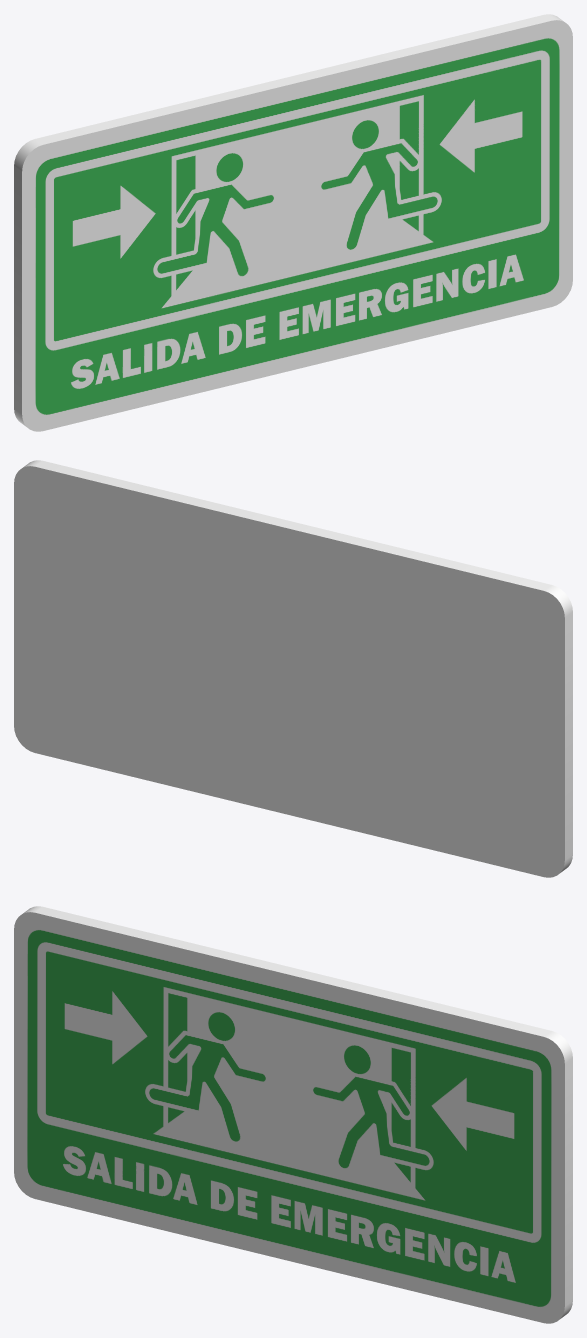
The model's file is SenyalSalida.fbx.
The picture shows the model from 3 angles, top to bottom: view 1: azimuth 30°, elevation 25°; view 2: azimuth 150°, elevation 25°; view 3: azimuth 330°, elevation 25°; orthographic projection.
Visible parts, largest first — view 1: salida de emergencia; view 2: salida de emergencia; view 3: salida de emergencia.
Part boxes in pixels (x1,y1,x2,y2): salida de emergencia: (14, 14, 572, 431); salida de emergencia: (14, 460, 572, 877); salida de emergencia: (14, 906, 572, 1323).
Bounding box in the file's own units: 20 × 9.93 × 0.5095.
